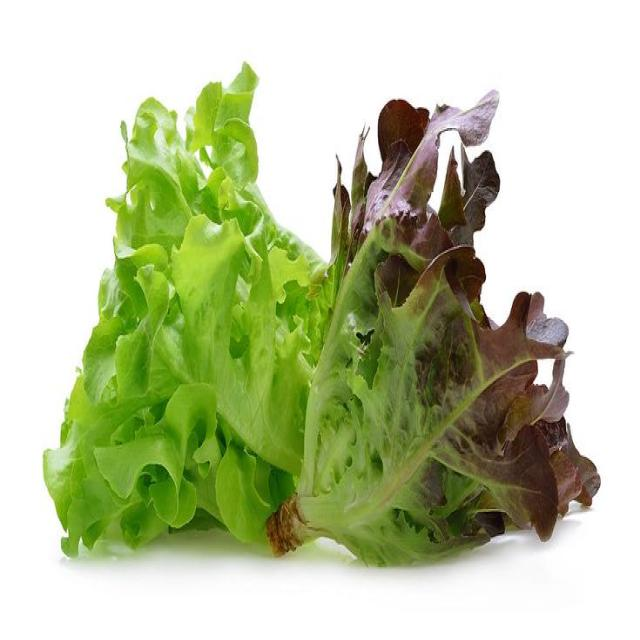lettuce: (45, 66, 599, 564), (268, 93, 599, 564), (44, 66, 326, 555)
